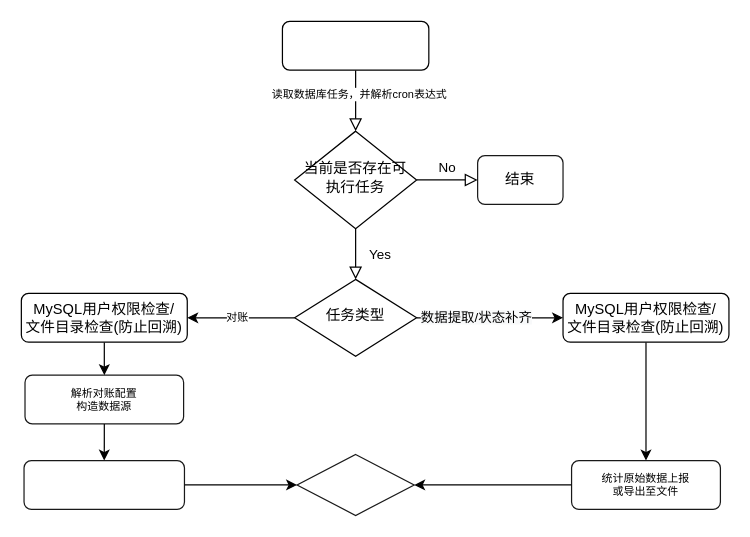
Image size: 750x537. Some labels were removed from this diagram. Each missing label, with the centre of its shape:
"分钟级定时任务" belongs at point (355, 45).
"是否存在回调" belongs at point (355, 484).
"进行对账 根据配置统计其他数据" belongs at point (103, 484).
